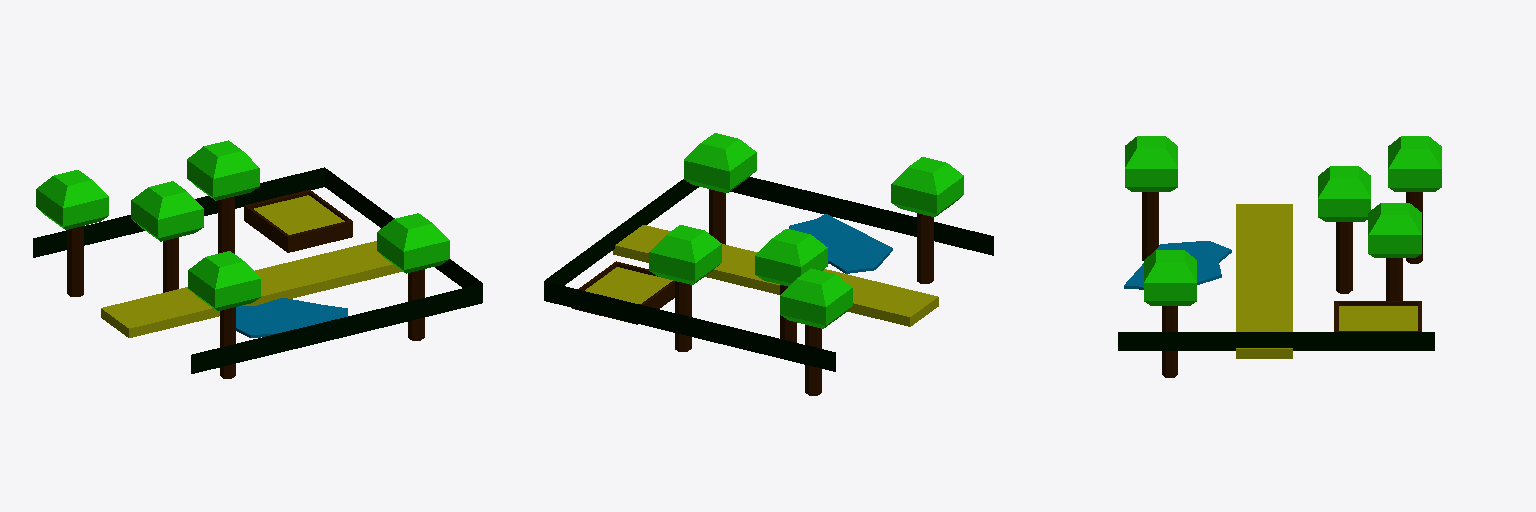
The model's file is park.obj.
The picture shows the model from 3 angles: view 1: azimuth 30°, elevation 25°; view 2: azimuth 150°, elevation 25°; view 3: azimuth 270°, elevation 25°; orthographic projection.
Visible parts, largest first — view 1: Plane.001, Cube, Plane.005, Plane.004, Plane.002, Plane.006, Plane.003, Plane.007; view 2: Plane.001, Cube, Plane.003, Plane.002, Plane.005, Plane.004, Plane.006, Plane.007; view 3: Plane.001, Cube, Plane.006, Plane.003, Plane.002, Plane.004, Plane.005, Plane.007.
Boxes of the visible parts, <box> form: Plane.001: <box>33,167,482,373</box>; Cube: <box>101,241,402,337</box>; Plane.005: <box>36,170,108,296</box>; Plane.004: <box>187,140,259,253</box>; Plane.002: <box>377,213,449,340</box>; Plane.006: <box>131,181,203,292</box>; Plane.003: <box>188,251,260,378</box>; Plane.007: <box>236,298,347,337</box>; Plane.001: <box>544,177,993,371</box>; Cube: <box>613,225,938,326</box>; Plane.003: <box>891,157,963,283</box>; Plane.002: <box>684,133,756,244</box>; Plane.005: <box>780,268,852,395</box>; Plane.004: <box>649,225,721,351</box>; Plane.006: <box>755,229,827,342</box>; Plane.007: <box>789,214,892,273</box>; Plane.001: <box>1118,301,1434,350</box>; Cube: <box>1236,204,1292,358</box>; Plane.006: <box>1318,166,1370,293</box>; Plane.003: <box>1125,136,1177,260</box>; Plane.002: <box>1144,250,1196,377</box>; Plane.004: <box>1368,203,1421,300</box>; Plane.005: <box>1388,136,1441,263</box>; Plane.007: <box>1124,241,1231,289</box>.
Size of the model in its own units: 8.94 by 3.86 by 8.41.